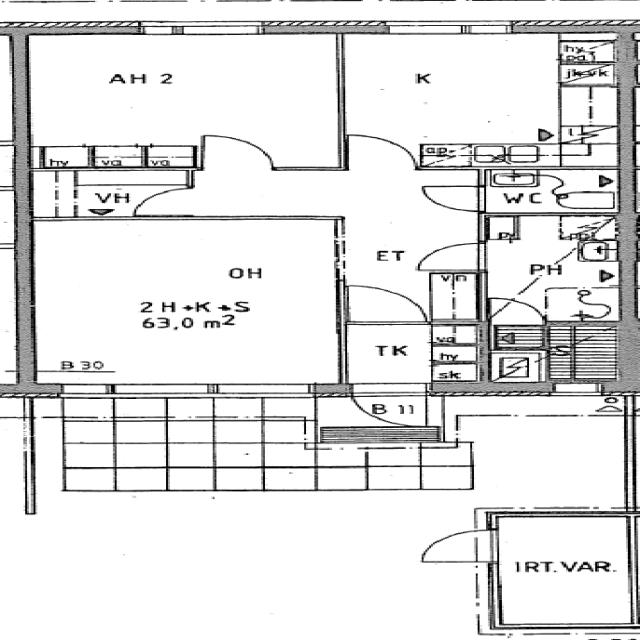door: (343, 282, 425, 322), (197, 132, 281, 169), (352, 390, 432, 426), (416, 528, 495, 564), (339, 131, 418, 162), (413, 241, 488, 272), (414, 183, 490, 213), (131, 186, 198, 217), (488, 298, 545, 324)
window: (377, 20, 518, 39), (168, 22, 266, 38), (521, 624, 632, 634), (550, 385, 605, 397)
zone: (27, 220, 346, 377), (19, 32, 342, 149), (338, 33, 616, 166), (491, 514, 637, 628), (464, 411, 630, 510), (482, 214, 627, 324), (339, 323, 484, 389), (26, 167, 196, 219), (495, 321, 628, 382), (481, 168, 630, 213), (48, 144, 156, 168), (558, 31, 633, 64), (29, 146, 99, 168), (145, 145, 197, 168)
